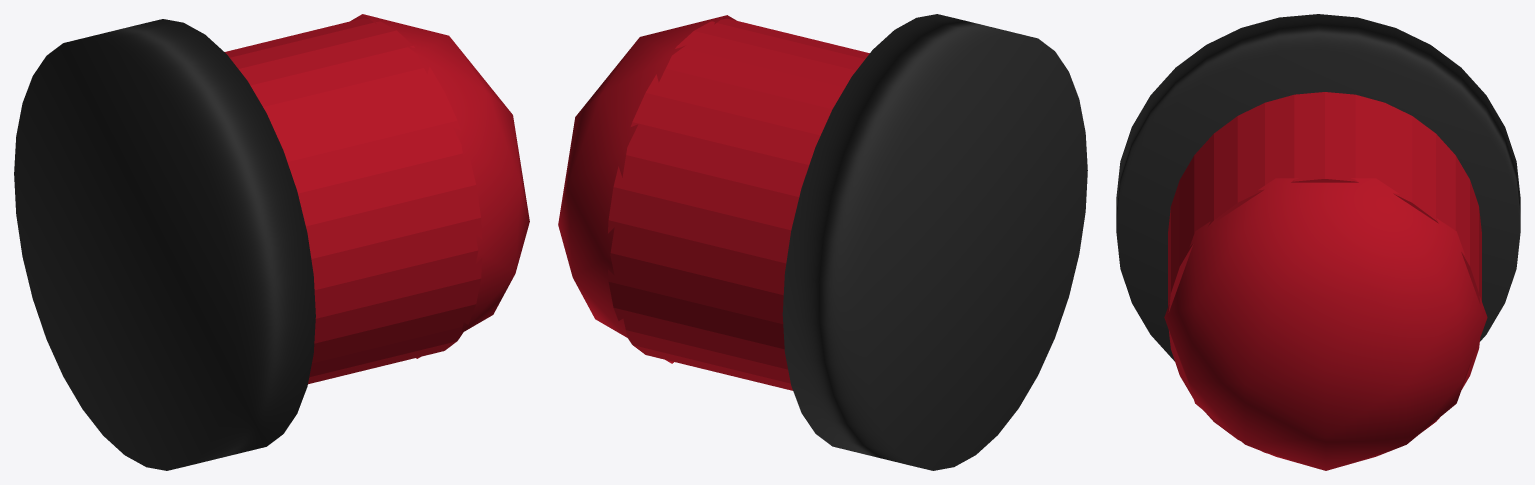
The model's file is alarm.ul.fbx.
3 views of the same model, side by side, from view 1: azimuth 30°, elevation 25°; view 2: azimuth 150°, elevation 25°; view 3: azimuth 270°, elevation 25° (orthographic). The views are drawn at different scales.
Visible parts, largest first — view 1: Cylinder, Icosphere; view 2: Cylinder, Icosphere; view 3: Icosphere, Cylinder.
Boxes of the visible parts, bbox=[...] form: Cylinder: bbox=[14, 19, 315, 470]; Icosphere: bbox=[225, 14, 529, 384]; Cylinder: bbox=[782, 14, 1087, 470]; Icosphere: bbox=[558, 15, 869, 390]; Icosphere: bbox=[1164, 92, 1487, 470]; Cylinder: bbox=[1116, 14, 1520, 361].
Size of the model in its own units: 17.94 by 18 by 18.
